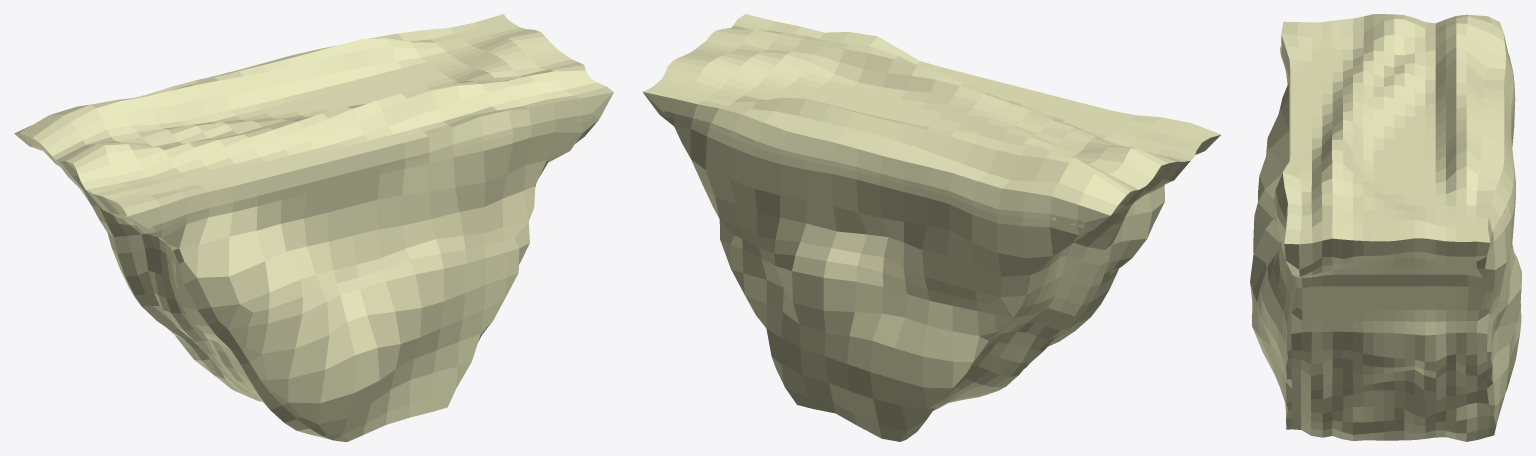
The model's file is Pempek Kapal Selam.fbx.
The picture shows the model from 3 angles, left to right: view 1: azimuth 30°, elevation 25°; view 2: azimuth 150°, elevation 25°; view 3: azimuth 270°, elevation 25°; orthographic projection. The views are drawn at different scales.
Visible parts, largest first — view 1: Cube; view 2: Cube; view 3: Cube.
Part boxes in pixels (<box>): Cube: <box>14,14,613,441</box>; Cube: <box>643,14,1220,441</box>; Cube: <box>1250,14,1521,441</box>.
Size of the model in its own units: 198 by 121 by 99.2.
